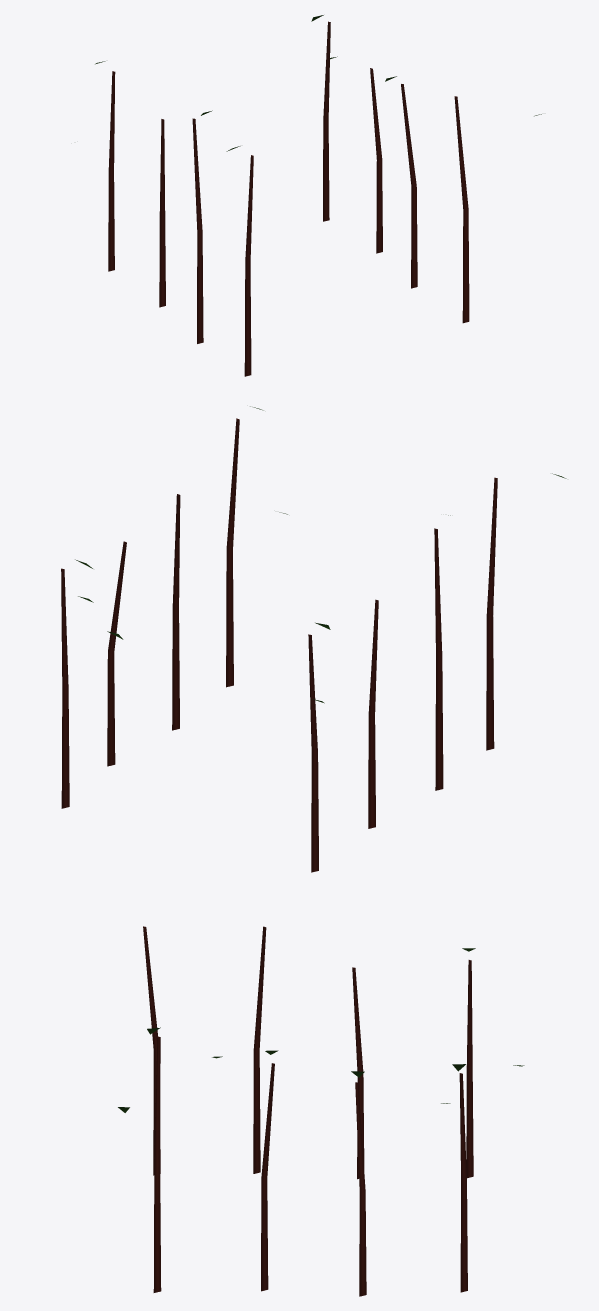
The model's file is fm_cassava_3_lod1.glb.
3 renders of one model, top to bottom at view 1: azimuth 30°, elevation 25°; view 2: azimuth 150°, elevation 25°; view 3: azimuth 270°, elevation 25°, orthographic. The views are drawn at different scales.
Parts seen in each view (by area): view 1: fm_cassava_3_lod1; view 2: fm_cassava_3_lod1; view 3: fm_cassava_3_lod1.
Boxes of the visible parts, x1,y1,x2,y2 form: fm_cassava_3_lod1: (95,15,541,376); fm_cassava_3_lod1: (61,406,566,872); fm_cassava_3_lod1: (118,926,524,1296).
Bounding box in the file's own units: 3.72 × 2.01 × 4.07.
